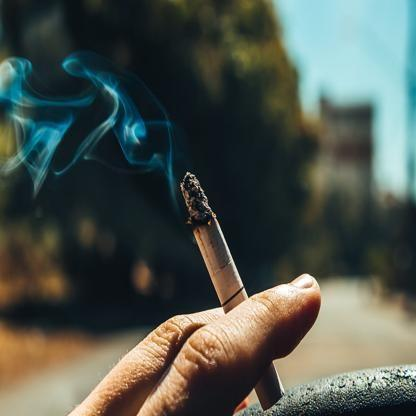trash: (178, 169, 286, 413)
